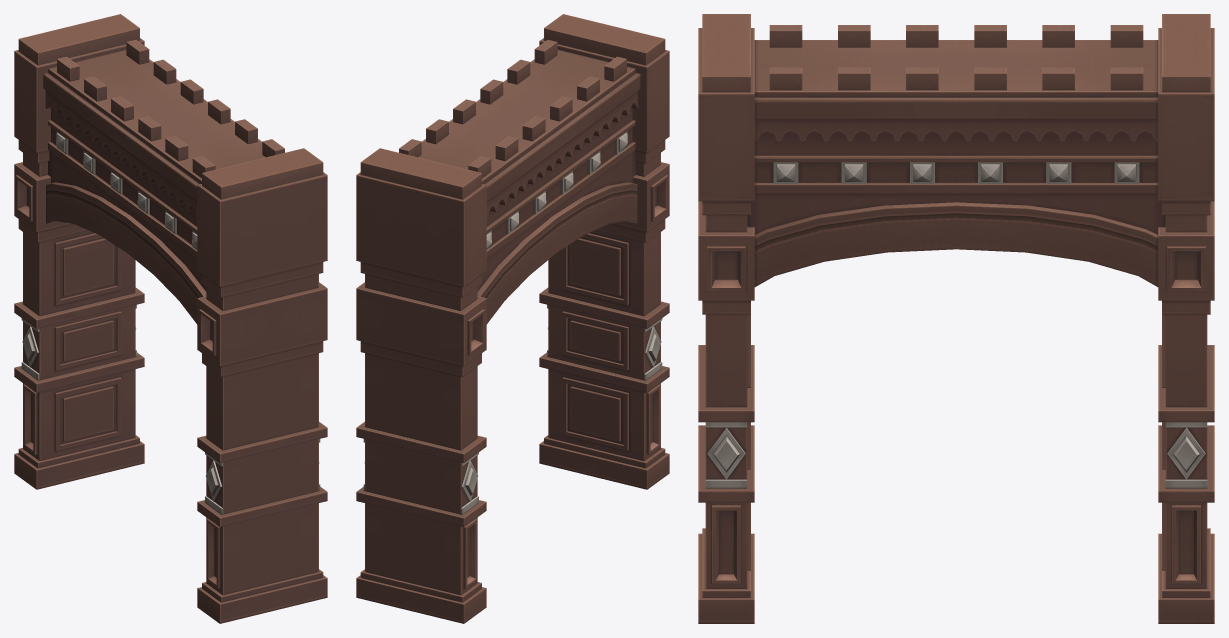
Rendered from my_wildhunt_01_partition_03.glb.
The picture shows the model from 3 angles, left to right: view 1: azimuth 30°, elevation 25°; view 2: azimuth 150°, elevation 25°; view 3: azimuth 270°, elevation 25°; orthographic projection. The views are drawn at different scales.
Visible parts, largest first — view 1: my_wildhunt_01_partition_03; view 2: my_wildhunt_01_partition_03; view 3: my_wildhunt_01_partition_03.
Part boxes in pixels (left/top/right/bottom): my_wildhunt_01_partition_03: left=14, top=14, right=327, bottom=623; my_wildhunt_01_partition_03: left=356, top=14, right=669, bottom=623; my_wildhunt_01_partition_03: left=698, top=14, right=1214, bottom=623.
Size of the model in its own units: 0.00564 by 0.021 by 0.018.
1 material, 1 textured.
